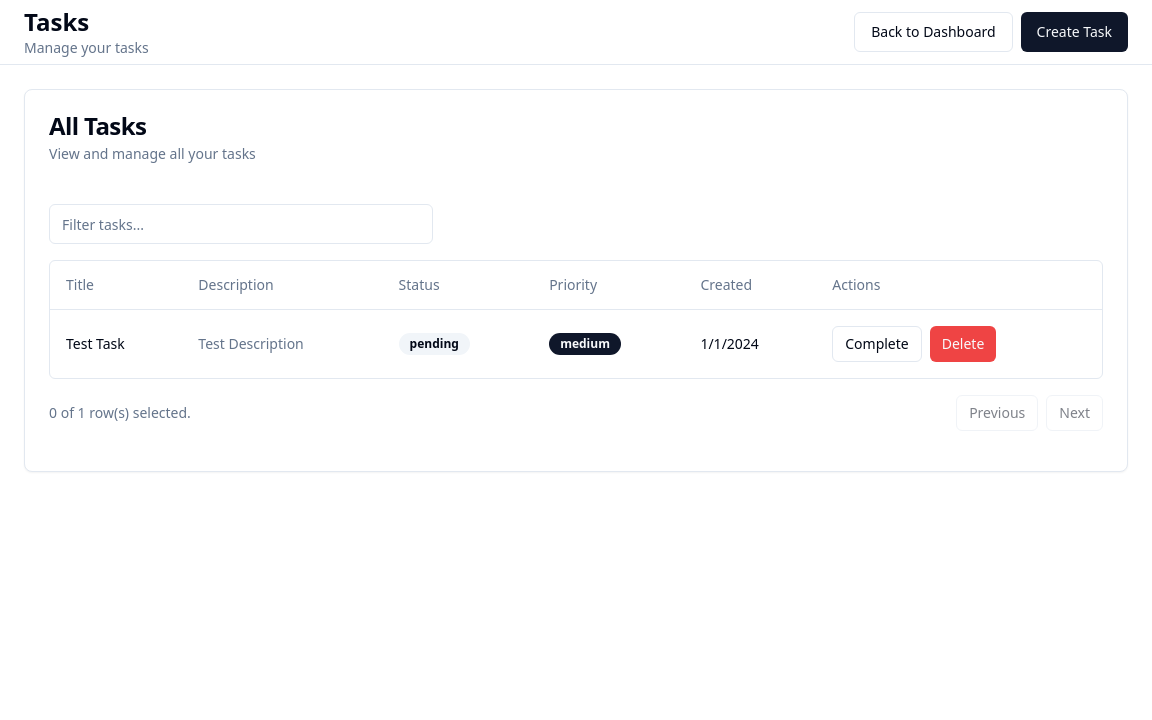
Test: Task Creation and Dashboard Flow › Task Creation Flow › should create a task and show success message
Expected: the heading "Tasks" is shown, top-left (24, 5), bottom-right (89, 38)
# Click the "Create Task" button
Click the button "Create Task".
click(1074, 32)  # box top-left (1021, 12), bottom-right (1128, 52)
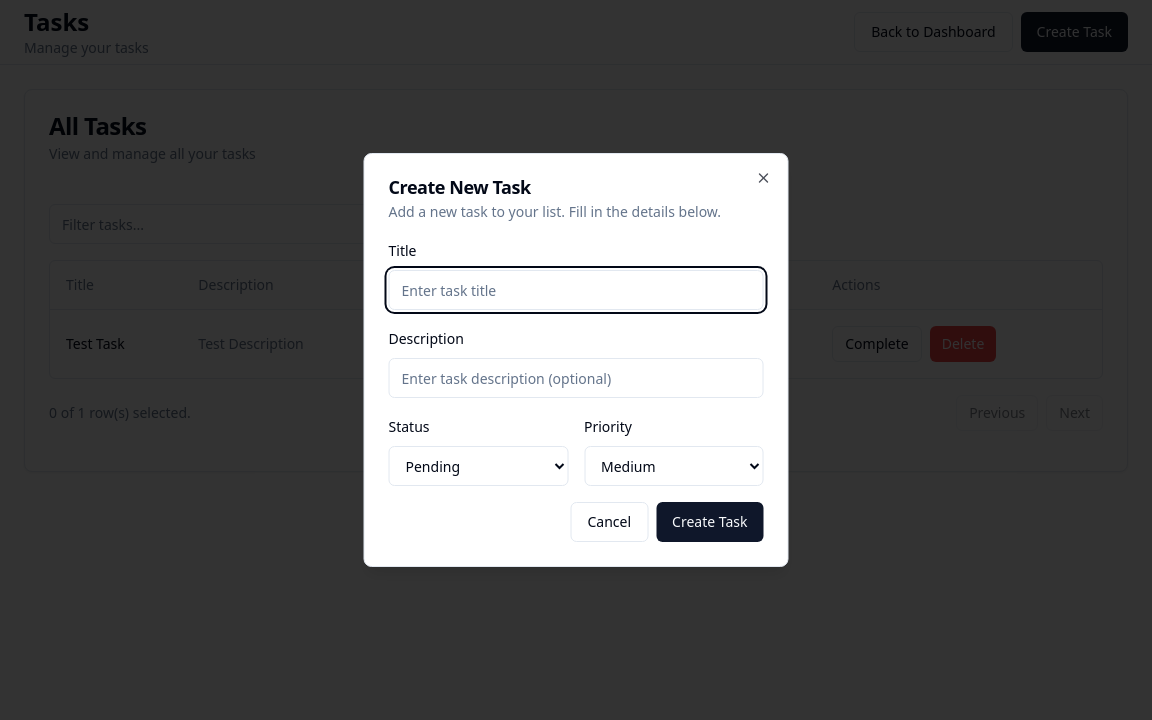
Expected: the heading "Create New Task" is shown, top-left (388, 175), bottom-right (531, 199)
Type "New Test Task" into the field labelled "Title".
click(576, 290); type("New Test Task")  # box top-left (388, 270), bottom-right (764, 310)
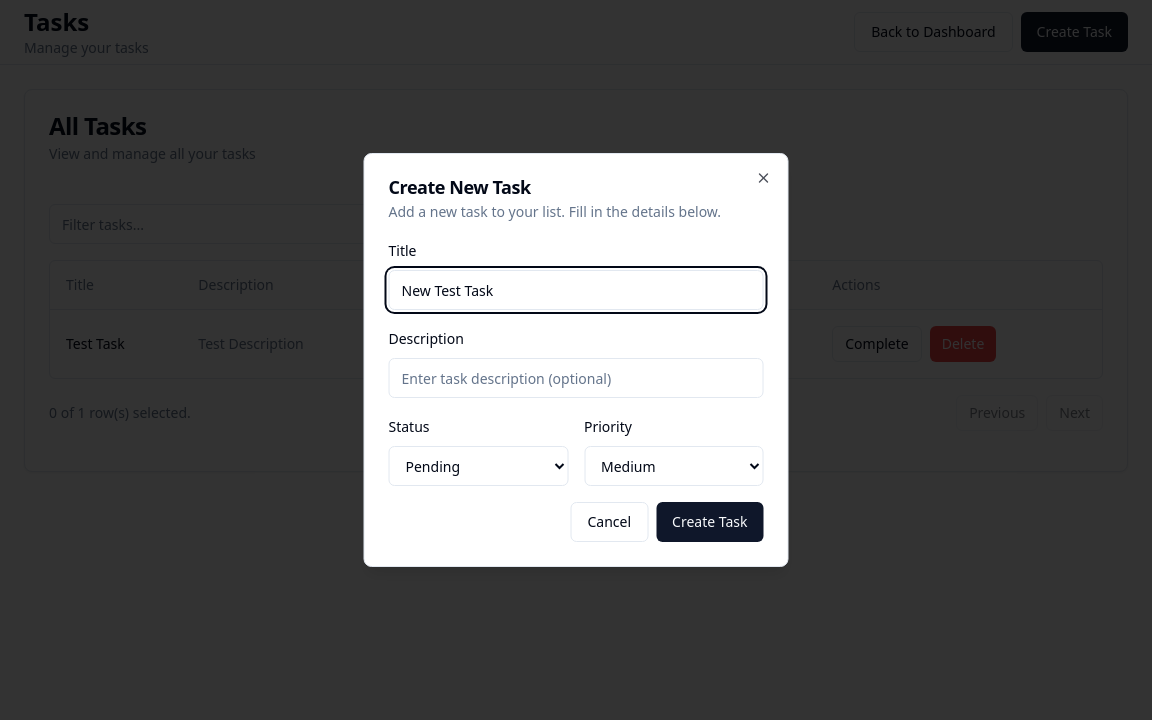
Type "This is a test task description" into the field labelled "Description".
click(576, 378); type("This is a test task description")  # box top-left (388, 358), bottom-right (764, 398)
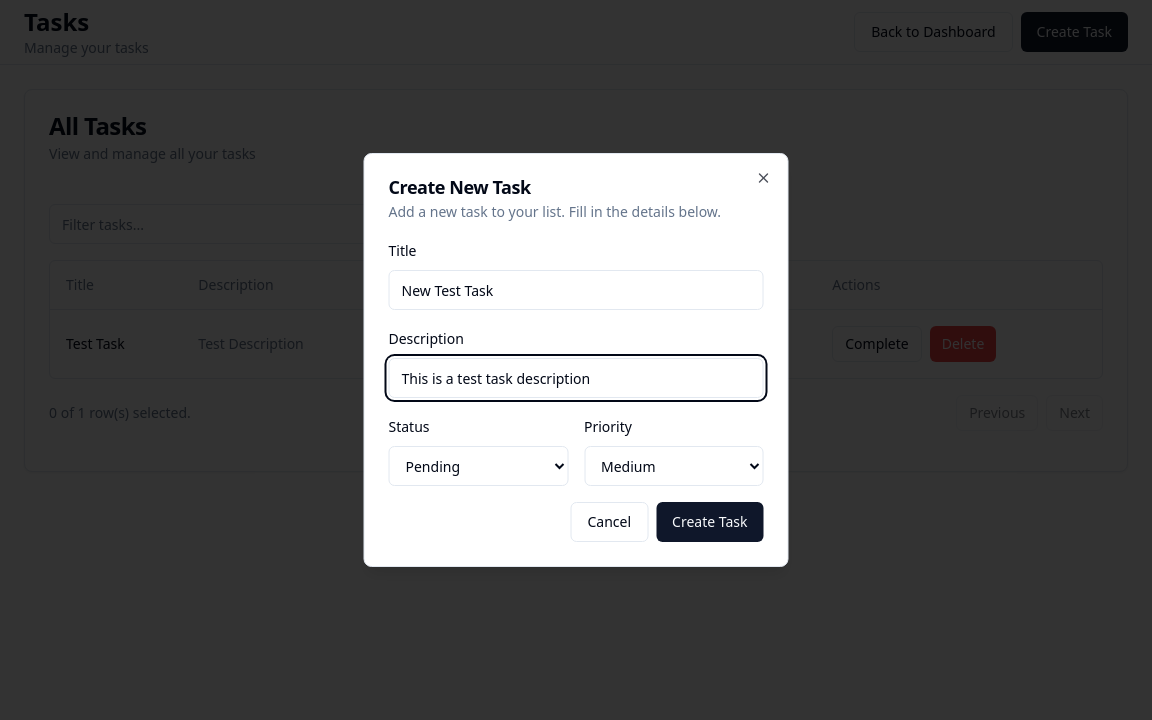
Select "Pending" in the dropdown labelled "Status" at [478, 466], box top-left (388, 446), bottom-right (568, 486)
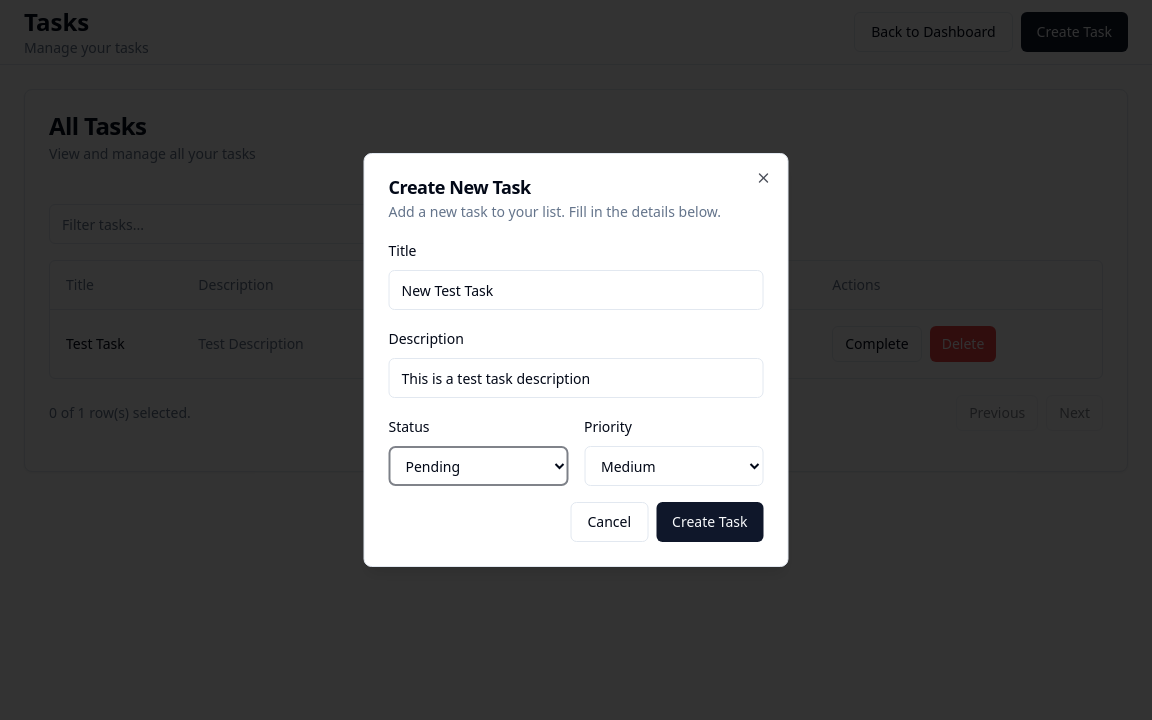
Select "High" in the dropdown labelled "Priority" at [674, 466], box top-left (584, 446), bottom-right (764, 486)
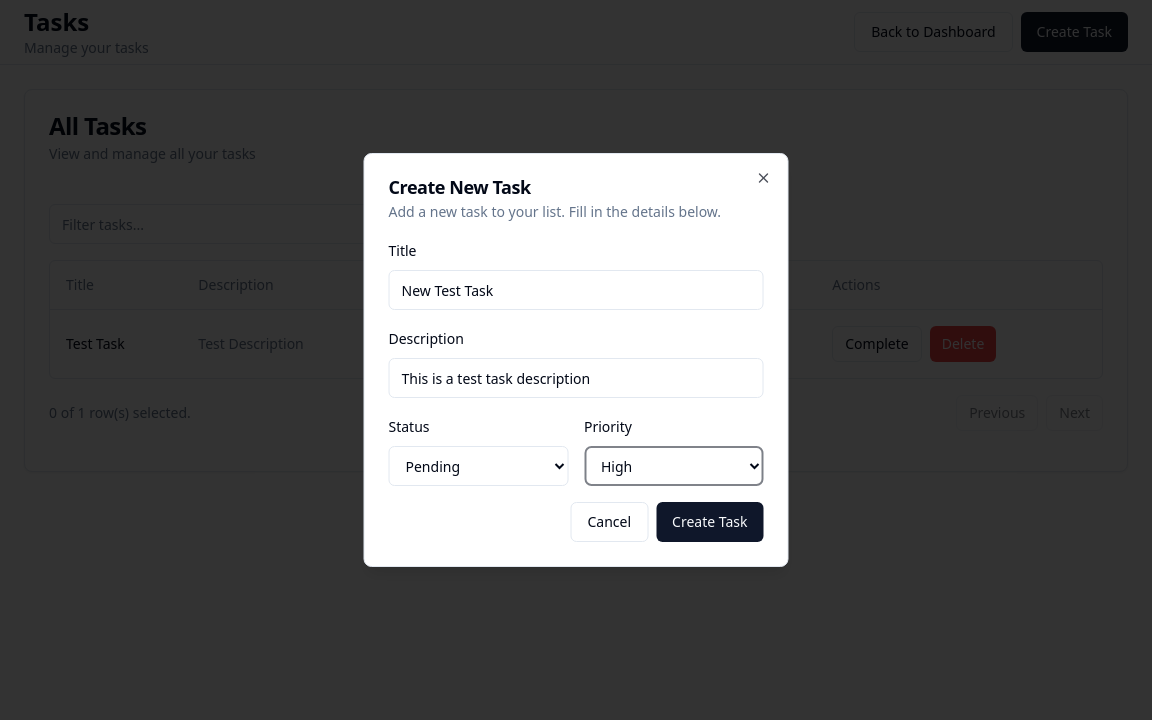
# Submit the form
Click the button "Create Task".
click(710, 522)  # box top-left (656, 502), bottom-right (764, 542)
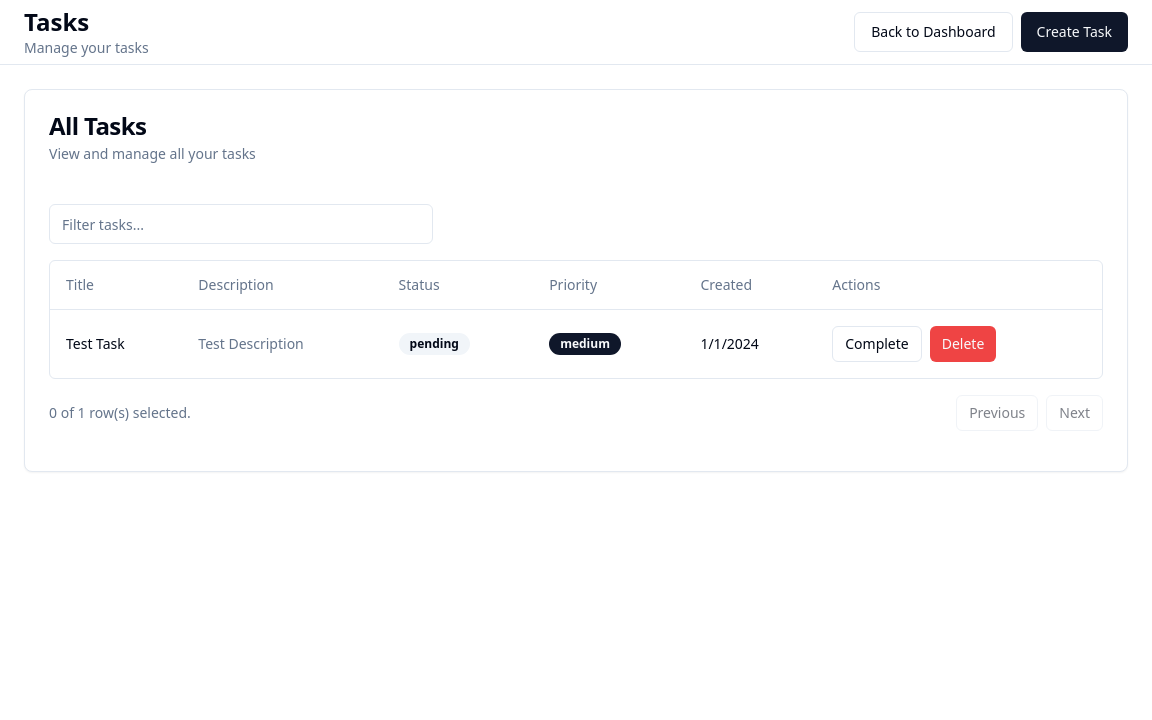
Expected: the heading "Create New Task" is gone
